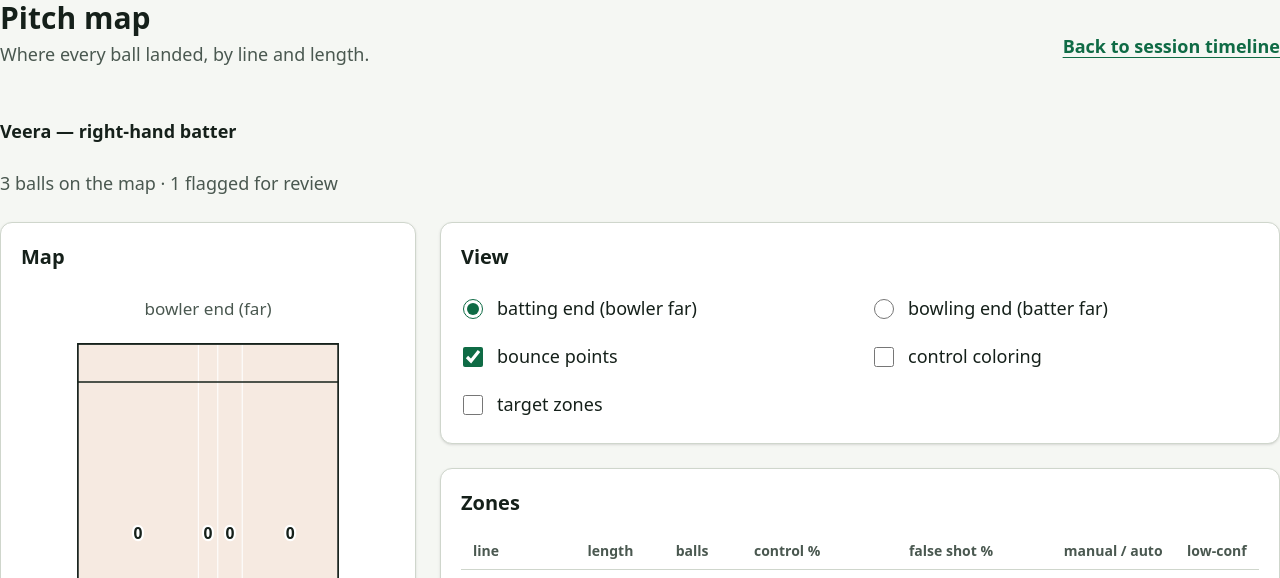
Test: overlay toggles and frames › reports declared-target unavailability honestly (targets API not serving)
What coordinates should you click on to do the following:
click the checkbox labelled "target zones"
I would click on:
 (473, 405)
Its box is [461,395,485,415].
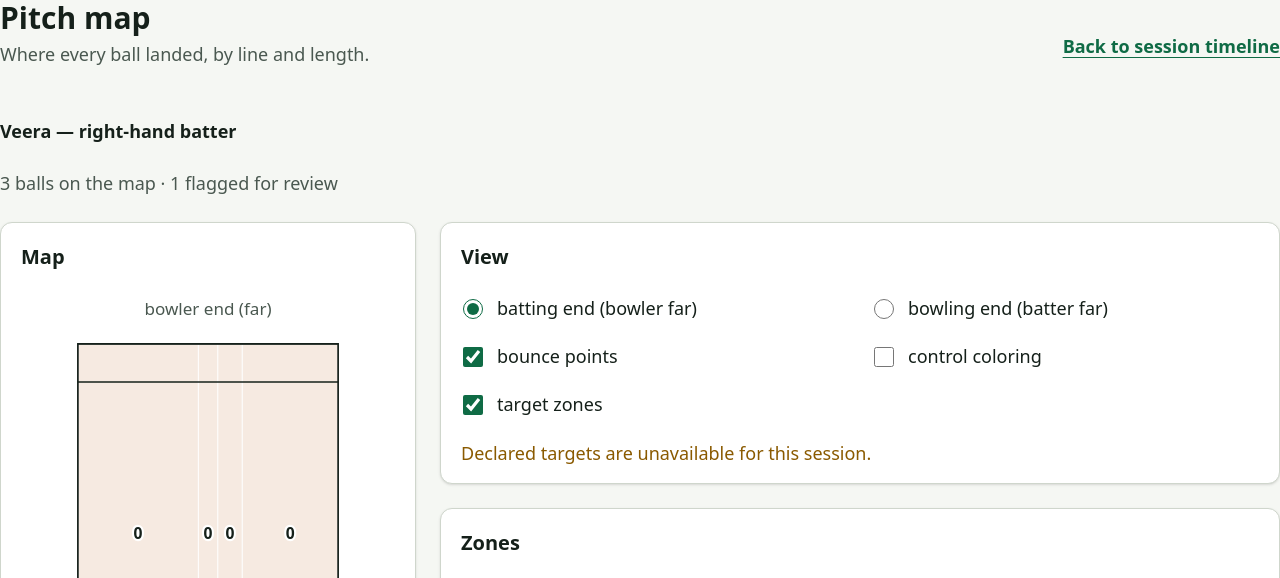
Expected: the text "Declared targets are unavailable for this session." is shown, [461,441,871,465]
